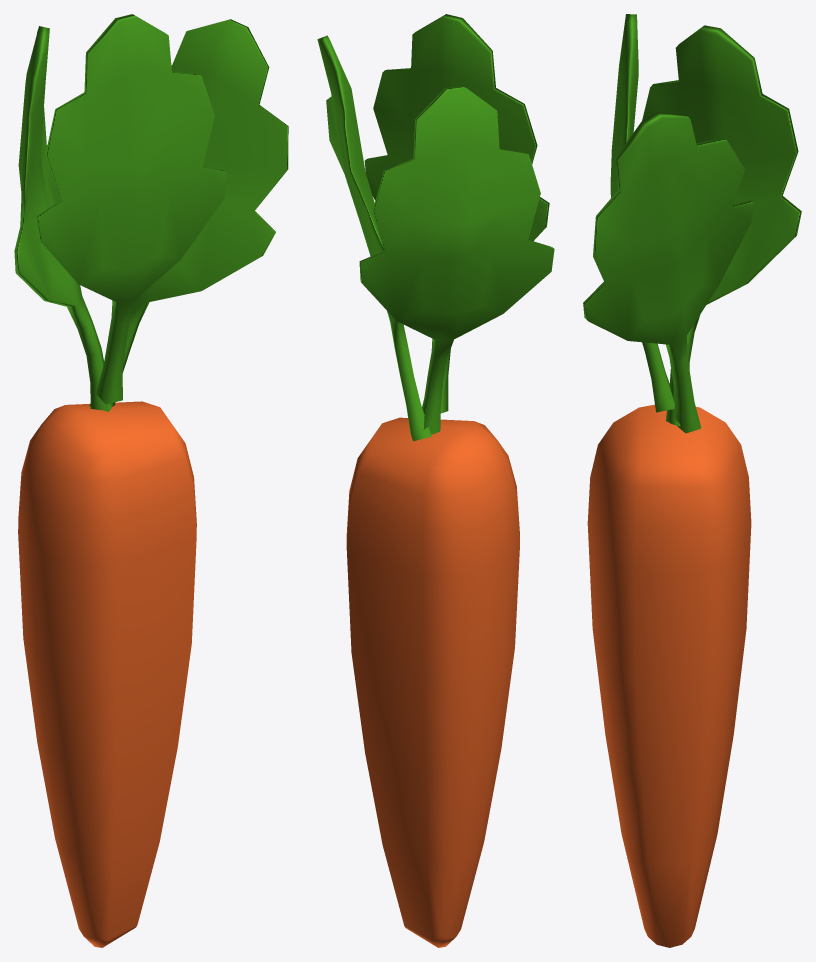
Rendered from Carrot.fbx.
3 renders of one model, left to right at view 1: azimuth 30°, elevation 25°; view 2: azimuth 150°, elevation 25°; view 3: azimuth 270°, elevation 25°, orthographic. The views are drawn at different scales.
Visible parts, largest first — view 1: carrot; view 2: carrot; view 3: carrot.
Part boxes in pixels (x1,y1,x2,y2): carrot: [14, 14, 288, 947]; carrot: [317, 14, 554, 947]; carrot: [583, 14, 801, 947].
Bounding box in the file's own units: 121 × 427 × 91.02.
